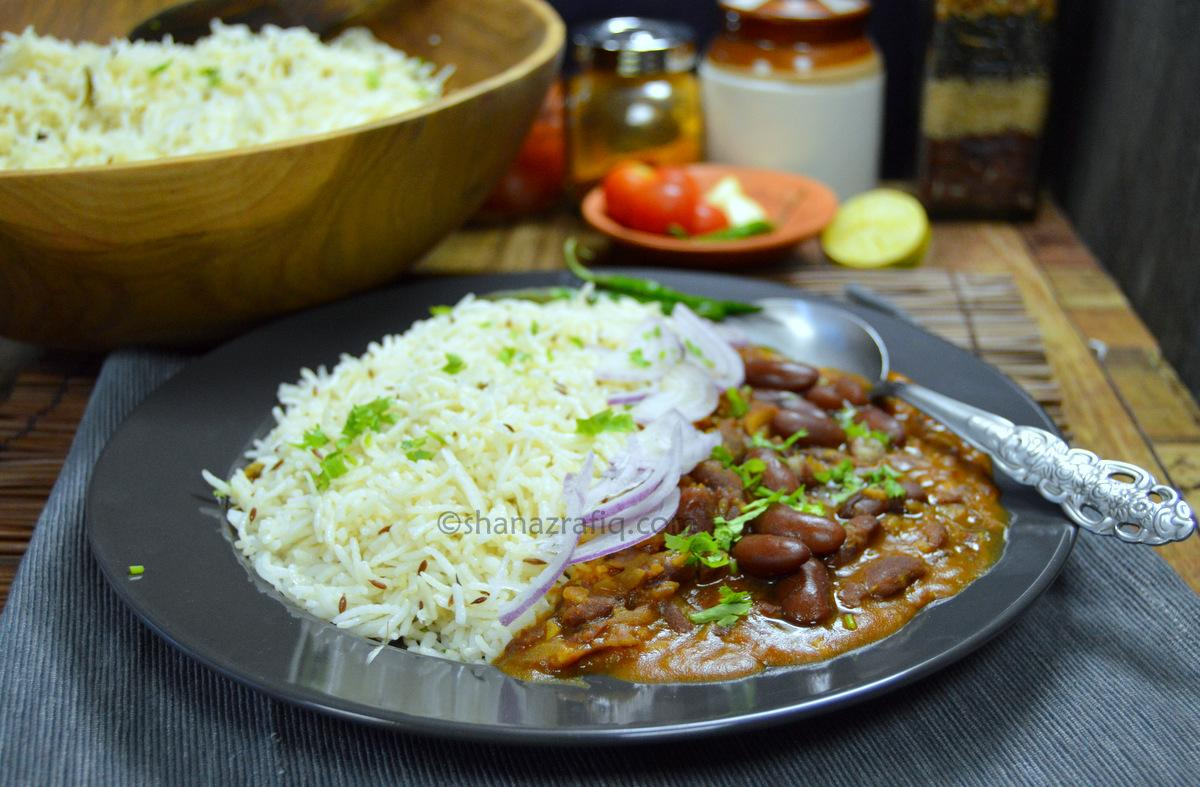rajma: (690, 464, 994, 676)
rice: (254, 292, 620, 542)
